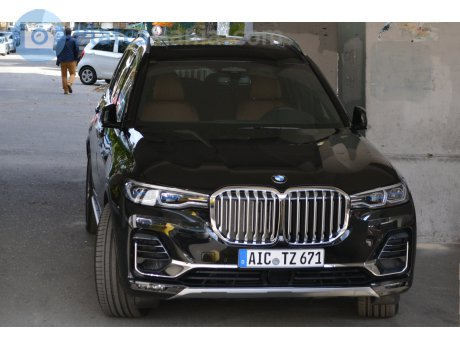License Plates: (237, 247, 322, 267)
